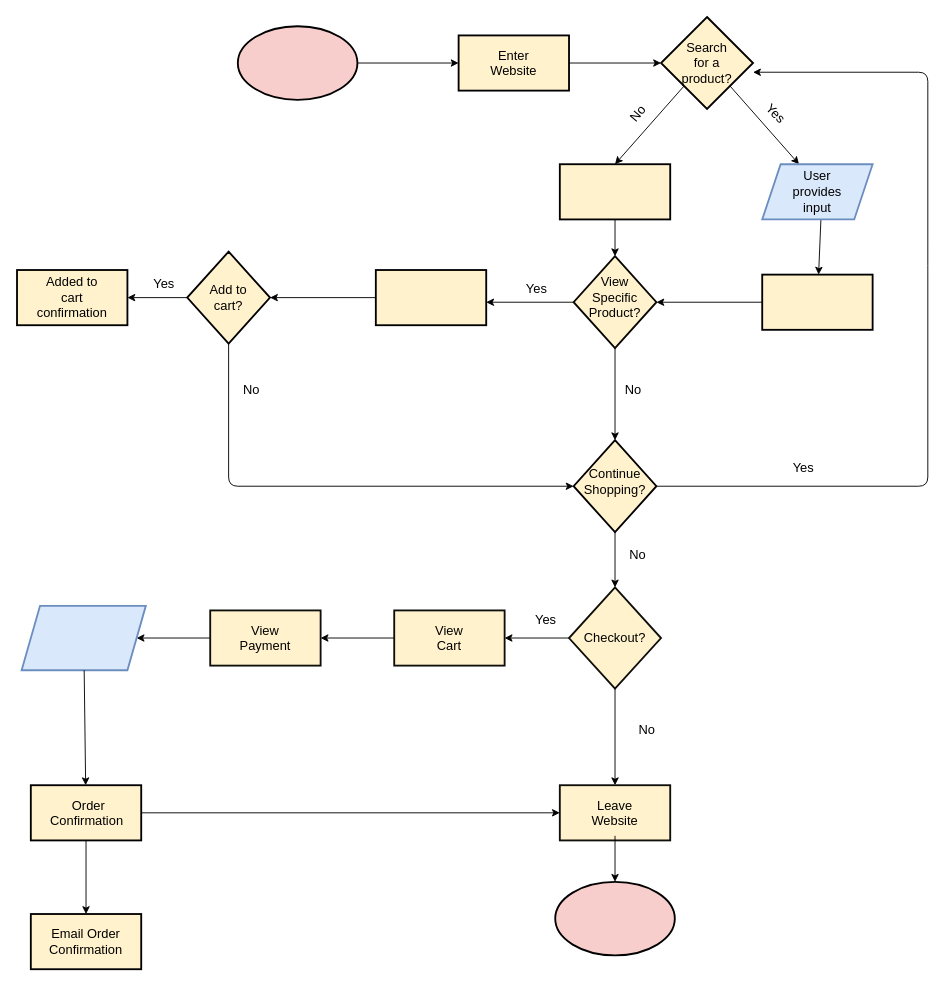
Image size: 951x985. Some labels were removed from this diagram. Each missing label, with the centre of its shape:
"End" belongs at (x=614, y=918).
"Product Page" belongs at (x=430, y=297).
"Start" belongs at (x=297, y=62).
"User provides payment information" belongs at (x=83, y=637).
"View Homepage Products" belongs at (x=614, y=191).
"View Products" belongs at (x=817, y=301).
